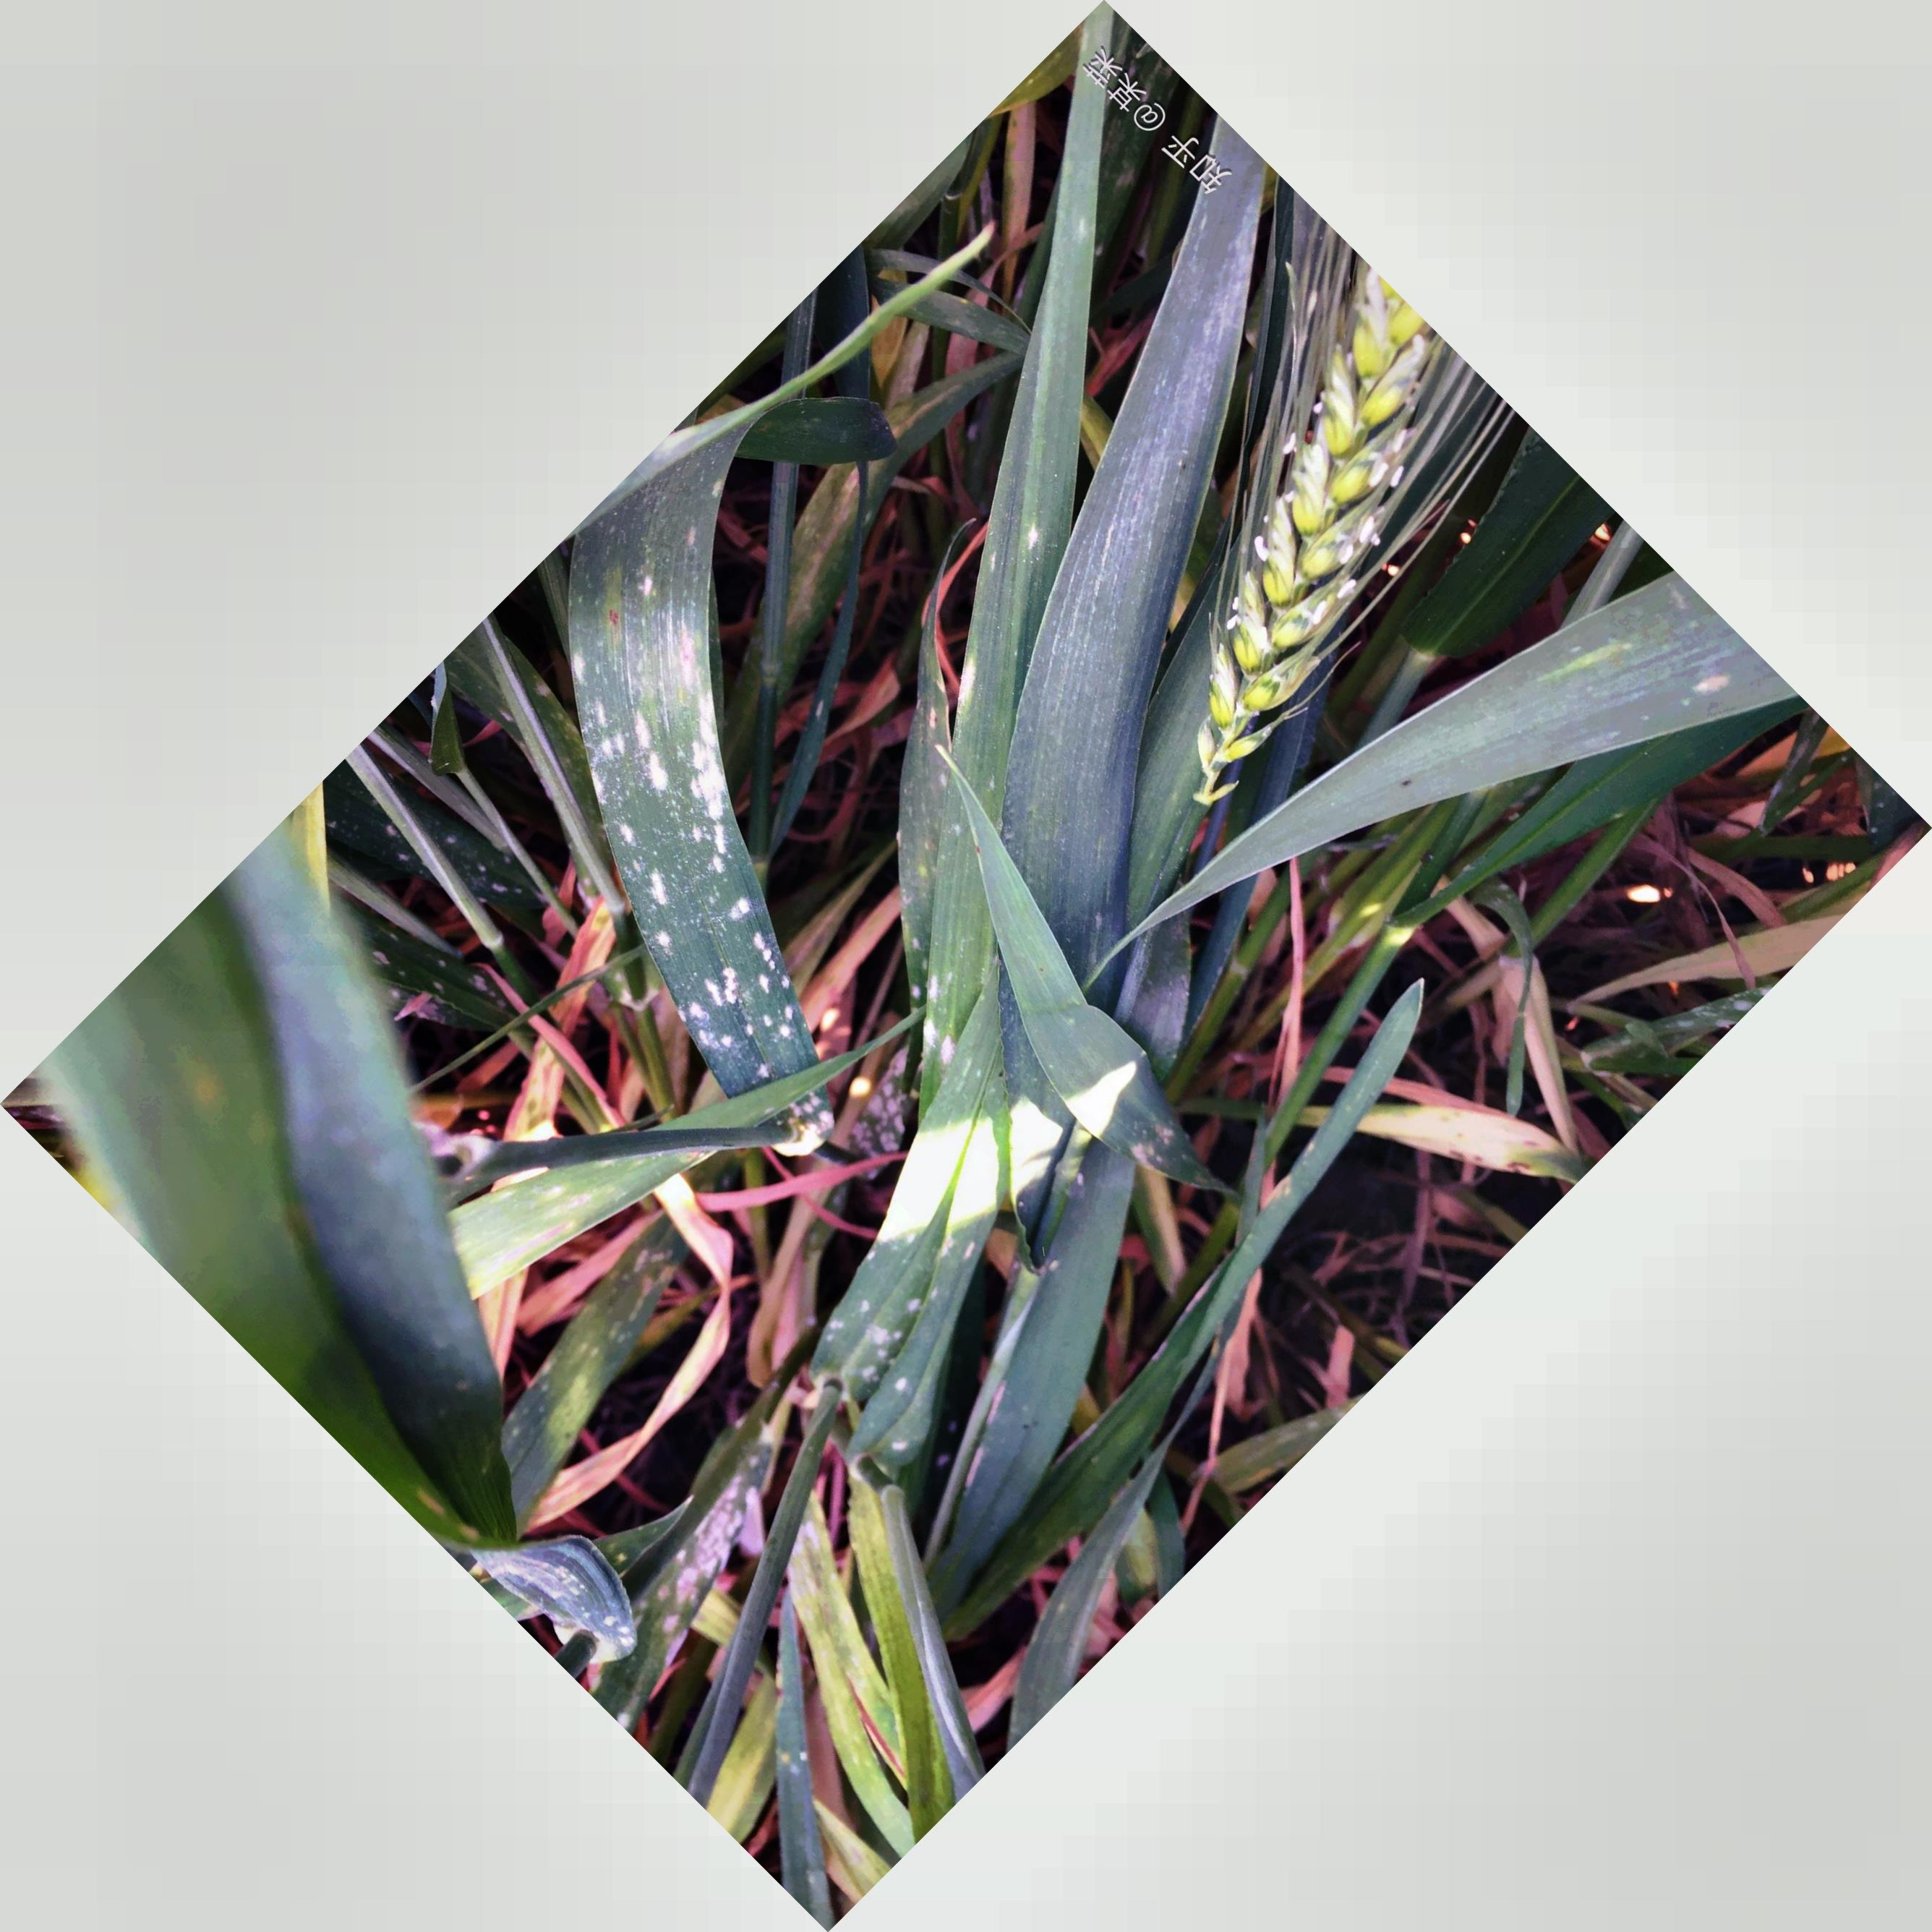Powdery Mildew: (568, 662, 816, 1081)
